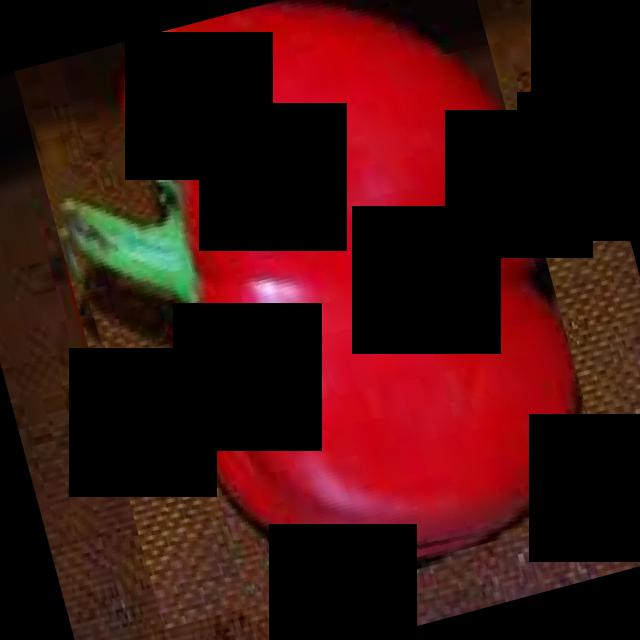pepper: (14, 0, 613, 629)
